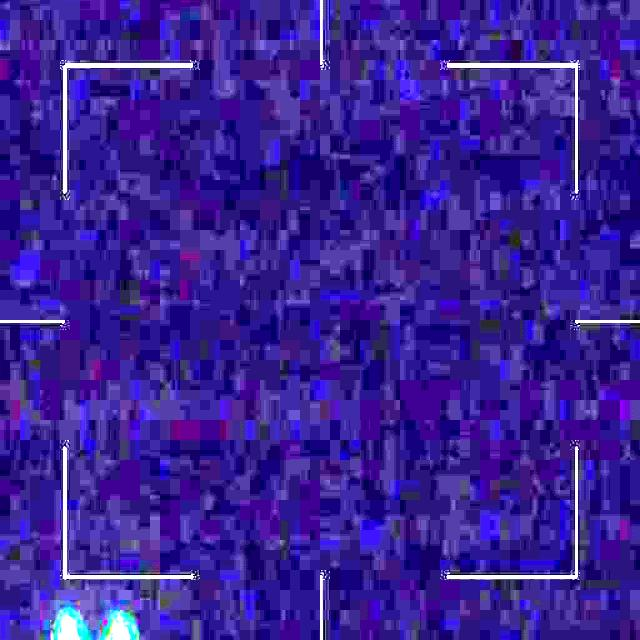bird: (56, 612, 135, 640)
